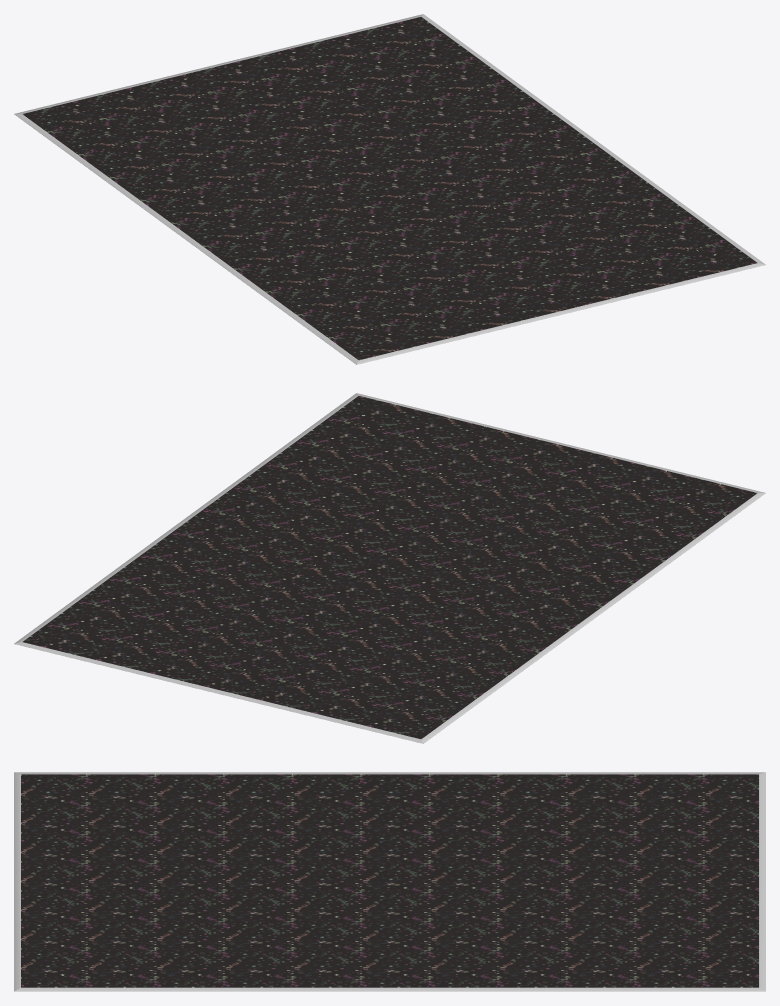
Rendered from SM_Carpets_03a.fbx.
3 renders of one model, top to bottom at view 1: azimuth 30°, elevation 25°; view 2: azimuth 150°, elevation 25°; view 3: azimuth 270°, elevation 25°, orthographic. The views are drawn at different scales.
Visible parts, largest first — view 1: SM_Carpets_03a; view 2: SM_Carpets_03a; view 3: SM_Carpets_03a.
Boxes of the visible parts, <box> form: SM_Carpets_03a: <box>14,14,765,364</box>; SM_Carpets_03a: <box>14,393,765,743</box>; SM_Carpets_03a: <box>14,772,765,991</box>.
Size of the model in its own units: 756 by 1096 by 1.74.
Materials: 2 (1 with a texture image).
